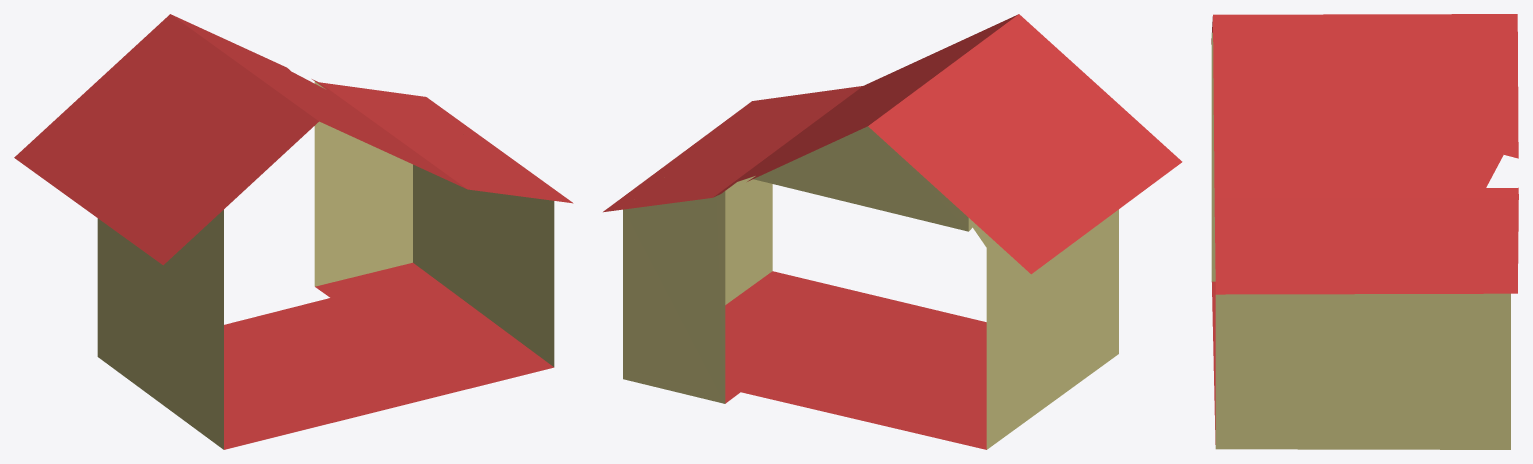
The picture shows the model from 3 angles, left to right: view 1: azimuth 30°, elevation 25°; view 2: azimuth 150°, elevation 25°; view 3: azimuth 270°, elevation 25°; orthographic projection. The views are drawn at different scales.
Bounding box in the file's own units: 16.96 × 10.54 × 11.92.
